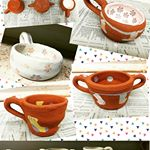cups: (2, 93, 70, 139), (7, 31, 65, 82)
